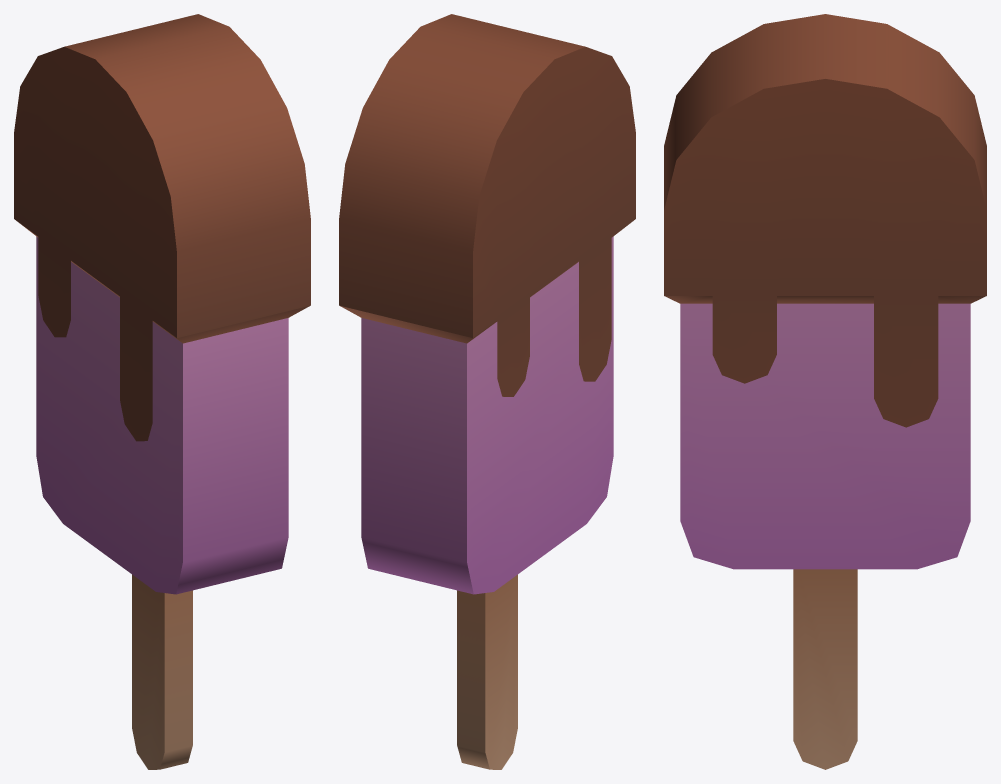
The model's file is popsicle-chocolate.glb.
3 renders of one model, left to right at view 1: azimuth 30°, elevation 25°; view 2: azimuth 150°, elevation 25°; view 3: azimuth 270°, elevation 25°, orthographic.
Parts seen in each view (by area): view 1: popsicle-chocolate; view 2: popsicle-chocolate; view 3: popsicle-chocolate.
Part boxes in pixels (x1,y1,x2,y2): popsicle-chocolate: (14, 14, 310, 769); popsicle-chocolate: (339, 14, 635, 769); popsicle-chocolate: (664, 14, 986, 769).
Bounding box in the file's own units: 0.095 × 0.49 × 0.2.
